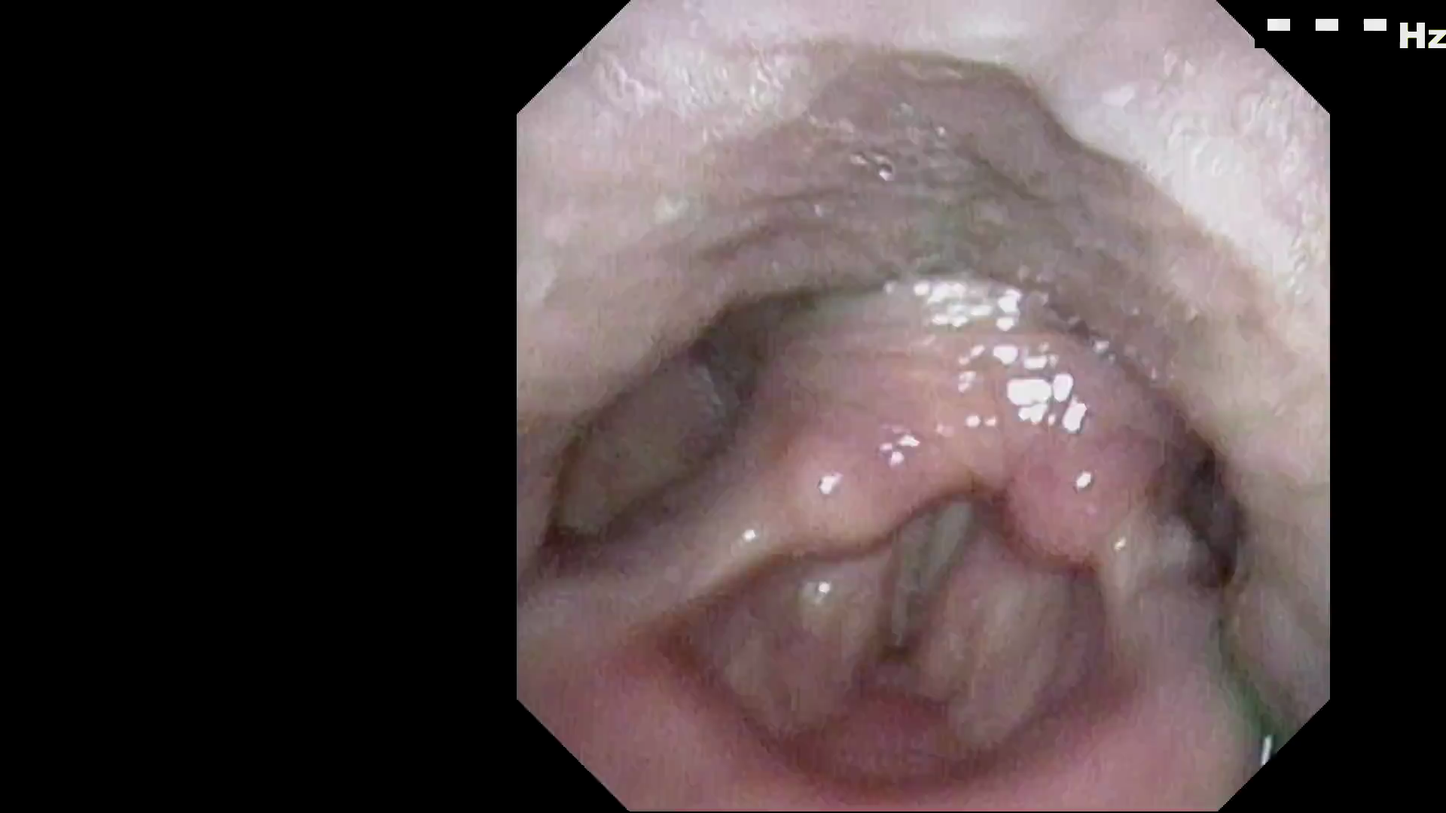epiglottis: (591, 467, 1124, 676)
trachea: (861, 455, 1021, 665)
